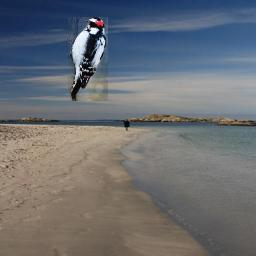Woodpecker: (66, 17, 108, 101)
